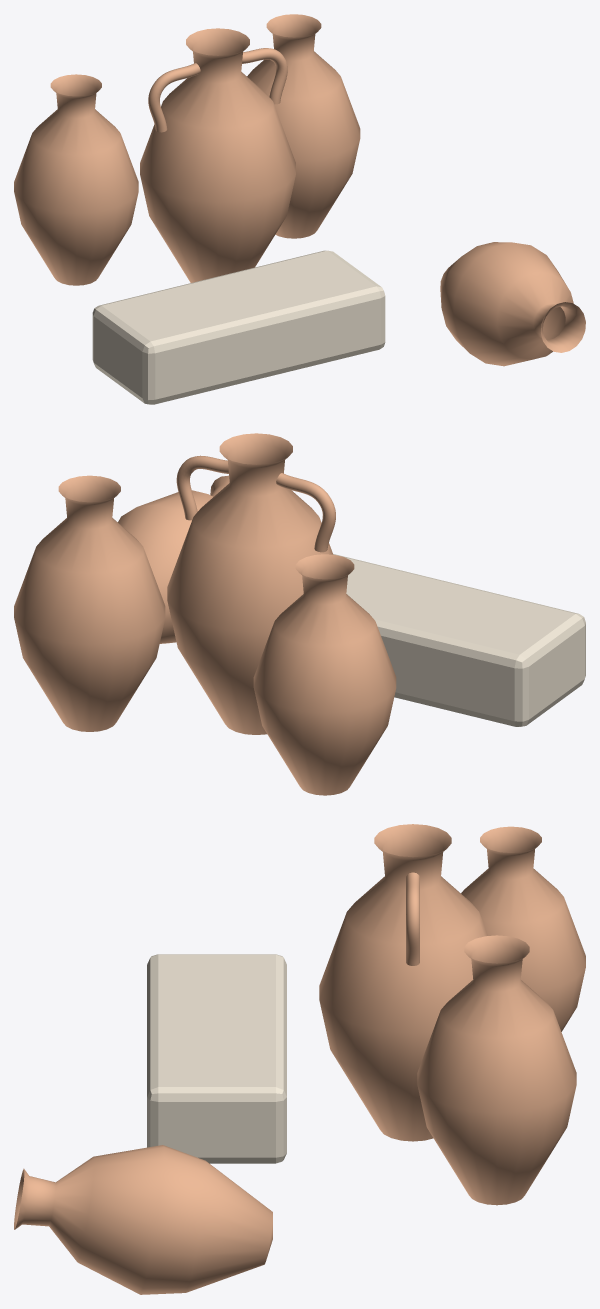
The model's file is vg_greek_amphorae.glb.
The picture shows the model from 3 angles, top to bottom: view 1: azimuth 30°, elevation 25°; view 2: azimuth 150°, elevation 25°; view 3: azimuth 270°, elevation 25°; orthographic projection. The views are drawn at different scales.
Parts seen in each view (by area): view 1: vg_greek_amphorae, h.002, h.003; view 2: vg_greek_amphorae, h.002, h.003; view 3: vg_greek_amphorae, h.003.
Boxes of the visible parts, bbox=[...] form: vg_greek_amphorae: bbox=[14, 14, 585, 404]; h.002: bbox=[148, 63, 200, 132]; h.003: bbox=[242, 48, 287, 104]; vg_greek_amphorae: bbox=[14, 433, 585, 795]; h.002: bbox=[276, 473, 335, 552]; h.003: bbox=[176, 455, 228, 520]; vg_greek_amphorae: bbox=[14, 824, 585, 1294]; h.003: bbox=[406, 872, 419, 965].
Size of the model in its own units: 2.07 by 1.34 by 2.04.
